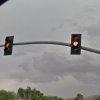Traffic light: (3, 29, 84, 62)
